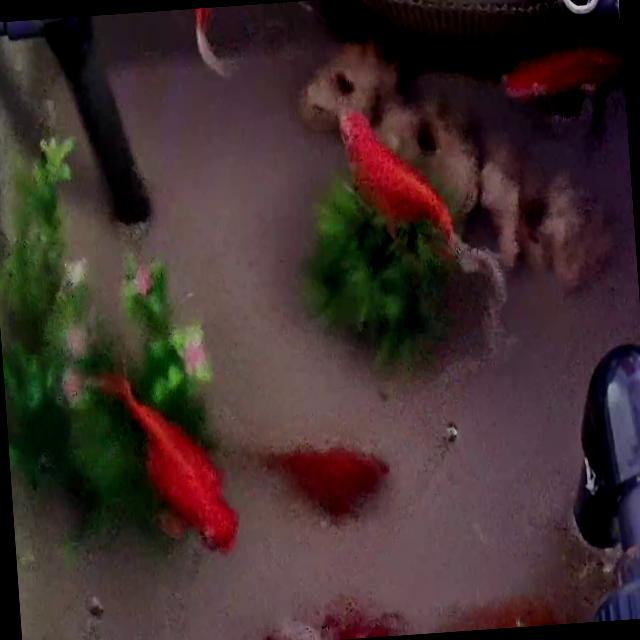fish: (84, 360, 240, 556), (338, 96, 453, 262), (502, 37, 626, 128), (260, 438, 386, 526), (178, 4, 255, 81), (263, 602, 396, 640), (453, 592, 556, 632)
